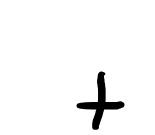plus: (76, 72, 123, 128)
